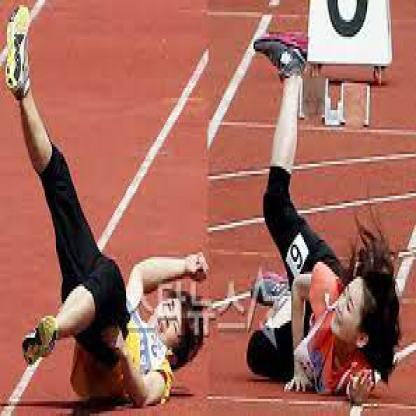Fall_Down: (6, 8, 210, 406)
